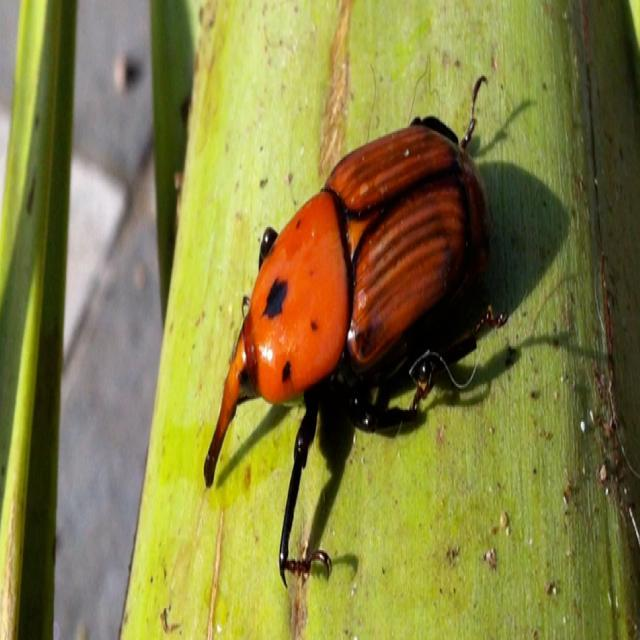Red-palm-weevil: (175, 92, 533, 589)
